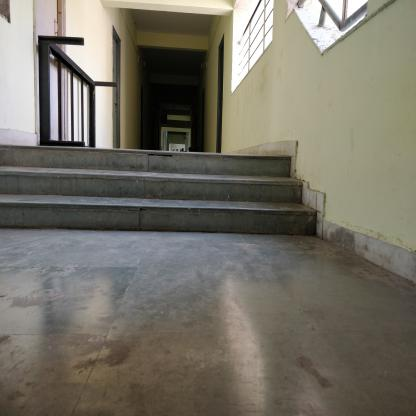stairs: (1, 148, 294, 236)
